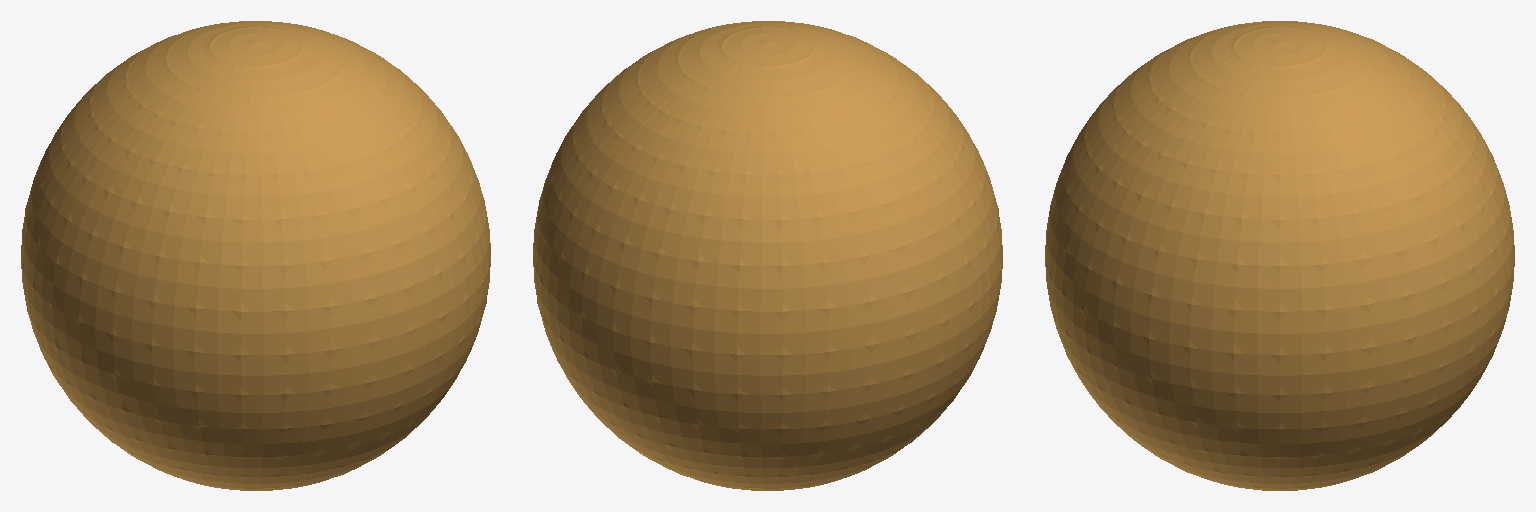
File: sun.obj
The picture shows the model from 3 angles: view 1: azimuth 30°, elevation 25°; view 2: azimuth 150°, elevation 25°; view 3: azimuth 270°, elevation 25°; orthographic projection.
Visible parts, largest first — view 1: Sphere; view 2: Sphere; view 3: Sphere.
Boxes of the visible parts, x1=… form: Sphere: x1=21, y1=21, x2=490, y2=490; Sphere: x1=533, y1=21, x2=1002, y2=490; Sphere: x1=1045, y1=21, x2=1514, y2=490.
Size of the model in its own units: 2 by 2 by 2.